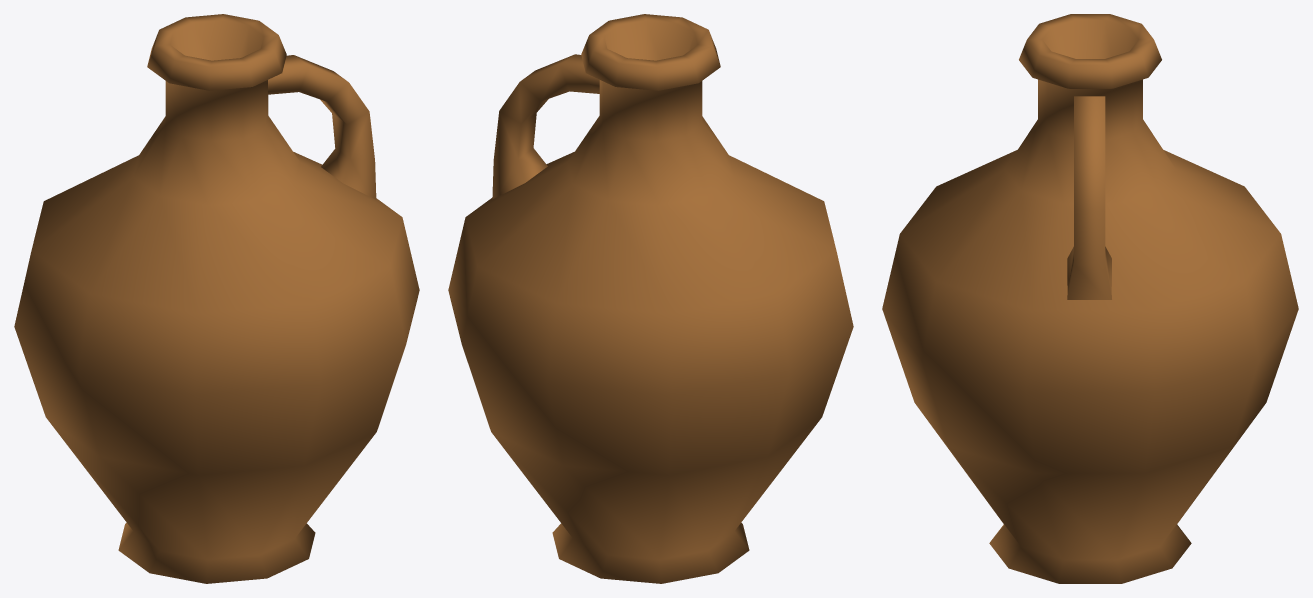
File: rpgpp_ag_jug_02b.fbx
3 renders of one model, left to right at view 1: azimuth 30°, elevation 25°; view 2: azimuth 150°, elevation 25°; view 3: azimuth 270°, elevation 25°, orthographic.
Visible parts, largest first — view 1: rpgpp_ag_jug_02b; view 2: rpgpp_ag_jug_02b; view 3: rpgpp_ag_jug_02b.
Part boxes in pixels (x1,y1,x2,y2): rpgpp_ag_jug_02b: (14,14,419,583); rpgpp_ag_jug_02b: (448,14,853,583); rpgpp_ag_jug_02b: (882,14,1298,583).
Size of the model in its own units: 0.2977 by 0.4176 by 0.313.
